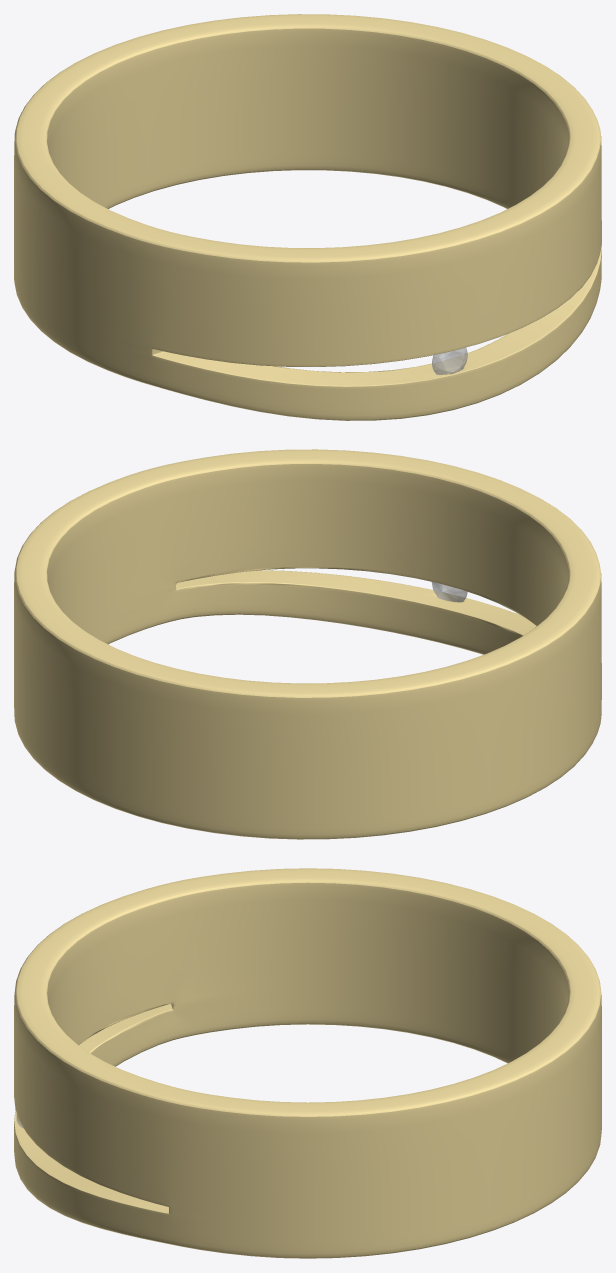
The picture shows the model from 3 angles, top to bottom: view 1: azimuth 30°, elevation 25°; view 2: azimuth 150°, elevation 25°; view 3: azimuth 270°, elevation 25°; orthographic projection.
Visible parts, largest first — view 1: Base_Metal, Engraving_Metal, Diamond_Metal; view 2: Base_Metal, Engraving_Metal; view 3: Base_Metal, Engraving_Metal.
Boxes of the visible parts, x1=… form: Base_Metal: x1=14, y1=14, x2=601, y2=420; Engraving_Metal: x1=47, y1=28, x2=568, y2=208; Diamond_Metal: x1=432, y1=347, x2=467, y2=374; Base_Metal: x1=14, y1=449, x2=601, y2=839; Engraving_Metal: x1=47, y1=464, x2=568, y2=654; Base_Metal: x1=14, y1=868, x2=601, y2=1258; Engraving_Metal: x1=47, y1=882, x2=568, y2=1066.
Bounding box in the file's own units: 2.25 × 0.7065 × 2.25.
